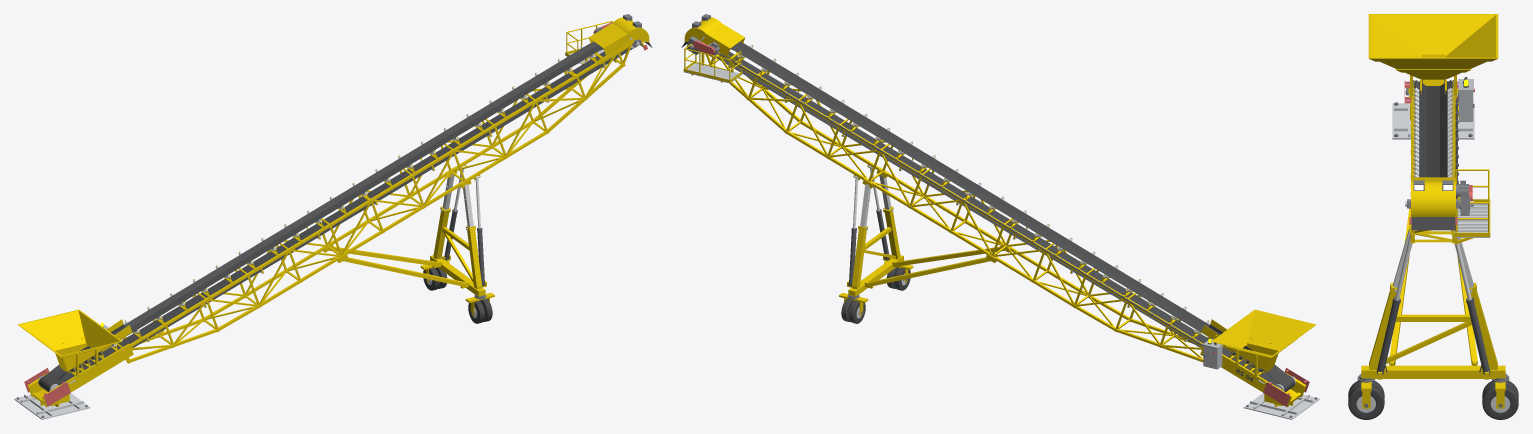
The model's file is radial-stacker-100ft.glb.
3 views of the same model, side by side, from view 1: azimuth 30°, elevation 25°; view 2: azimuth 150°, elevation 25°; view 3: azimuth 270°, elevation 25° (orthographic). The views are drawn at different scales.
Visible parts, largest first — view 1: pivot_pedestal, tail_pulley_wrap, ground_pan; view 2: pivot_pedestal, tail_pulley_wrap, ground_pan, fleet_number, tail_guards, ground_anchors; view 3: pivot_pedestal, tail_pulley_wrap, ground_pan, fleet_number, ground_anchors, control_cabinet, lift_ram_rods, tail_guards.
Part boxes in pixels (box(x1,y1,x2,y2)): pivot_pedestal: box(17, 17, 649, 407); tail_pulley_wrap: box(38, 36, 652, 391); ground_pan: box(14, 37, 637, 419); pivot_pedestal: box(683, 17, 1316, 407); tail_pulley_wrap: box(681, 36, 1295, 391); ground_pan: box(683, 37, 1319, 419); fleet_number: box(717, 52, 1252, 381); tail_guards: box(692, 40, 1309, 406); ground_anchors: box(686, 14, 1317, 417); pivot_pedestal: box(1361, 14, 1505, 408); tail_pulley_wrap: box(1348, 79, 1518, 419); ground_pan: box(1356, 87, 1510, 412); fleet_number: box(1376, 77, 1490, 375); ground_anchors: box(1357, 88, 1509, 407); control_cabinet: box(1458, 79, 1473, 121); lift_ram_rods: box(1395, 229, 1471, 300); tail_guards: box(1404, 80, 1474, 224).
Bounding box in the file's own units: 30.73 × 11.55 × 4.95.
